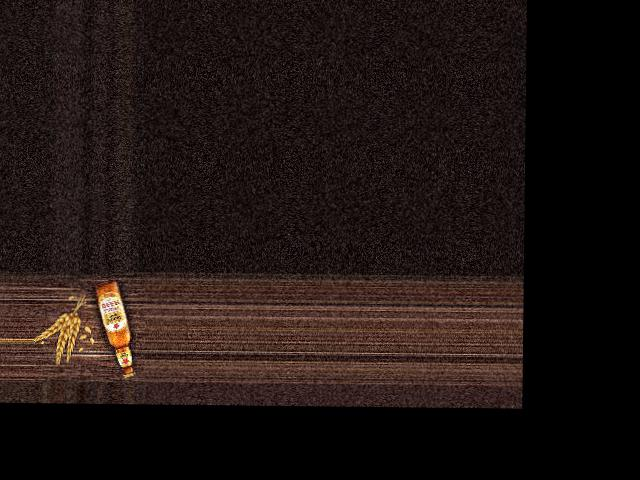beer: (93, 279, 137, 378)
